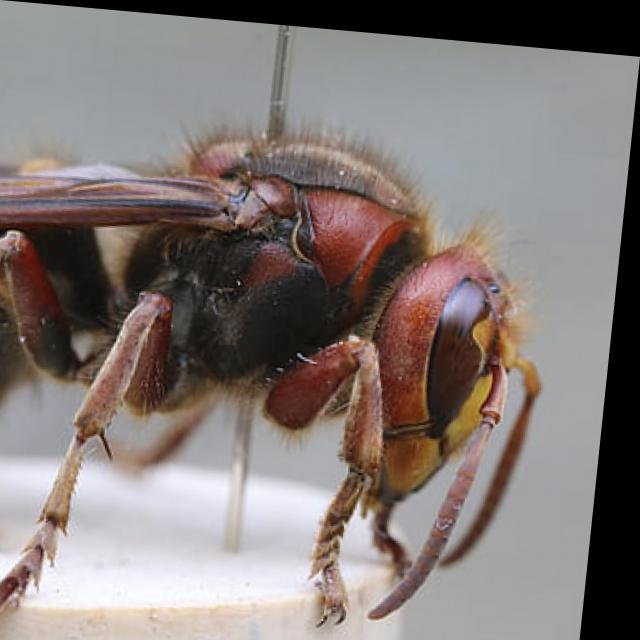Vespa Crabro: (0, 32, 596, 639)
